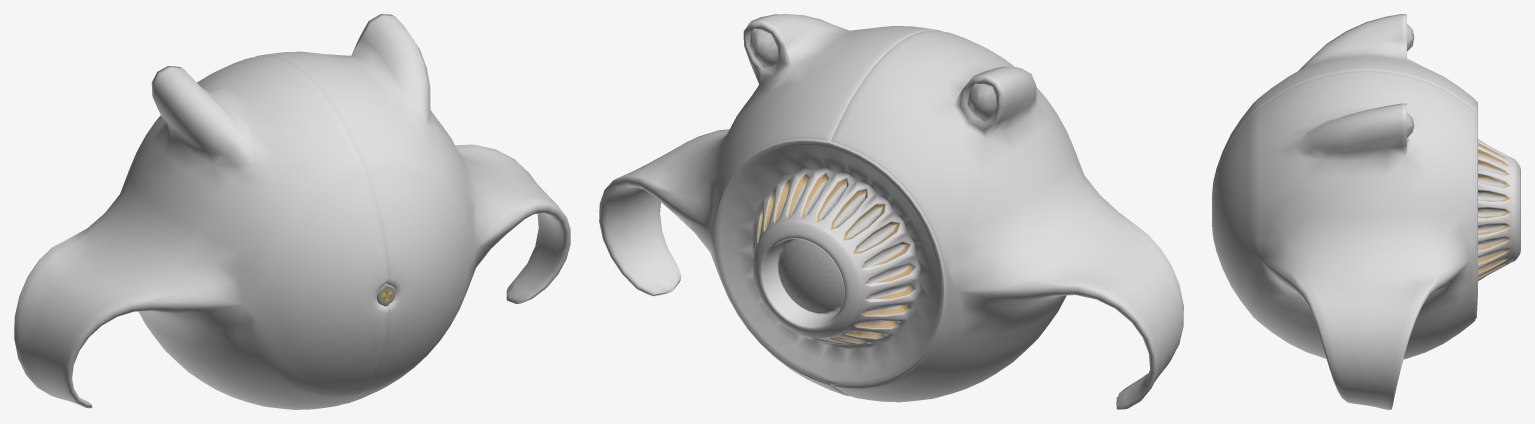
The model's file is drone.fbx.
The picture shows the model from 3 angles, left to right: view 1: azimuth 30°, elevation 25°; view 2: azimuth 150°, elevation 25°; view 3: azimuth 270°, elevation 25°; orthographic projection. The views are drawn at different scales.
Parts seen in each view (by area): view 1: drone; view 2: drone; view 3: drone.
Part boxes in pixels (box(x1,y1,x2,y2)): drone: box(14, 14, 570, 409); drone: box(599, 14, 1183, 409); drone: box(1212, 14, 1520, 409).
Size of the model in its own units: 148 by 89.48 by 86.54.
